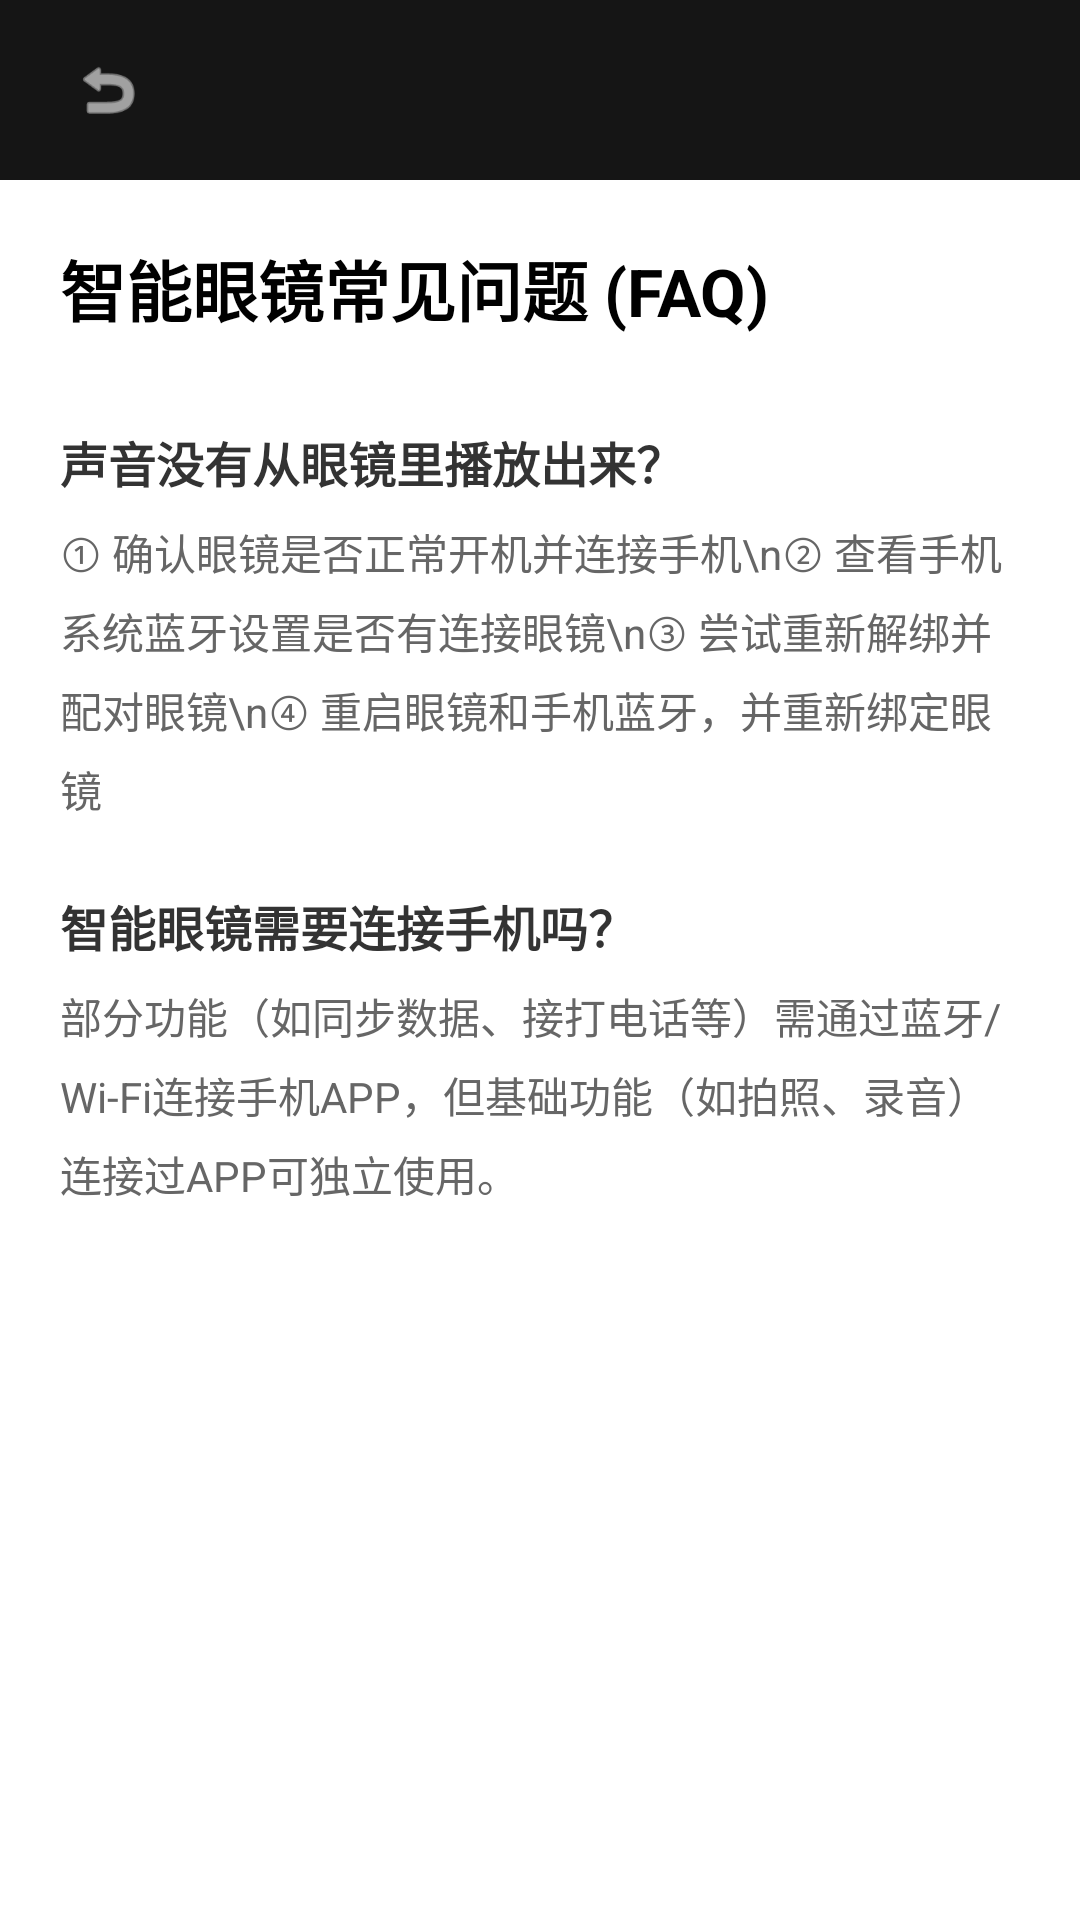

Named icons in this screenshot (1080*1920) and their bounding boxes, rect(x1, y1, x2, y2):
revert: rect(83, 67, 135, 114)
